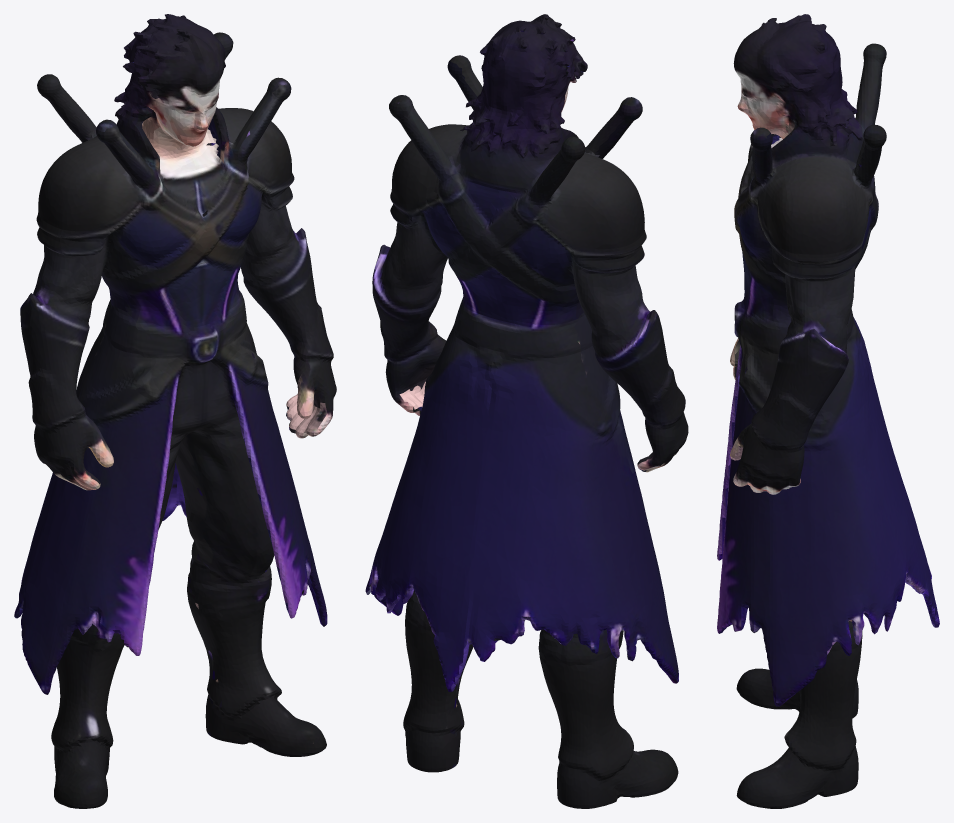
The model's file is thane.glb.
3 views of the same model, side by side, from view 1: azimuth 30°, elevation 25°; view 2: azimuth 150°, elevation 25°; view 3: azimuth 270°, elevation 25° (orthographic). The views are drawn at different scales.
Visible parts, largest first — view 1: tmp1jtti6jr.ply; view 2: tmp1jtti6jr.ply; view 3: tmp1jtti6jr.ply.
Boxes of the visible parts, left/top/right/bottom form: tmp1jtti6jr.ply: left=14, top=14, right=336, bottom=808; tmp1jtti6jr.ply: left=365, top=14, right=688, bottom=808; tmp1jtti6jr.ply: left=717, top=14, right=939, bottom=808.
Size of the model in its own units: 0.8135 by 1.99 by 0.5518.
Materials: 1 (1 with a texture image).
